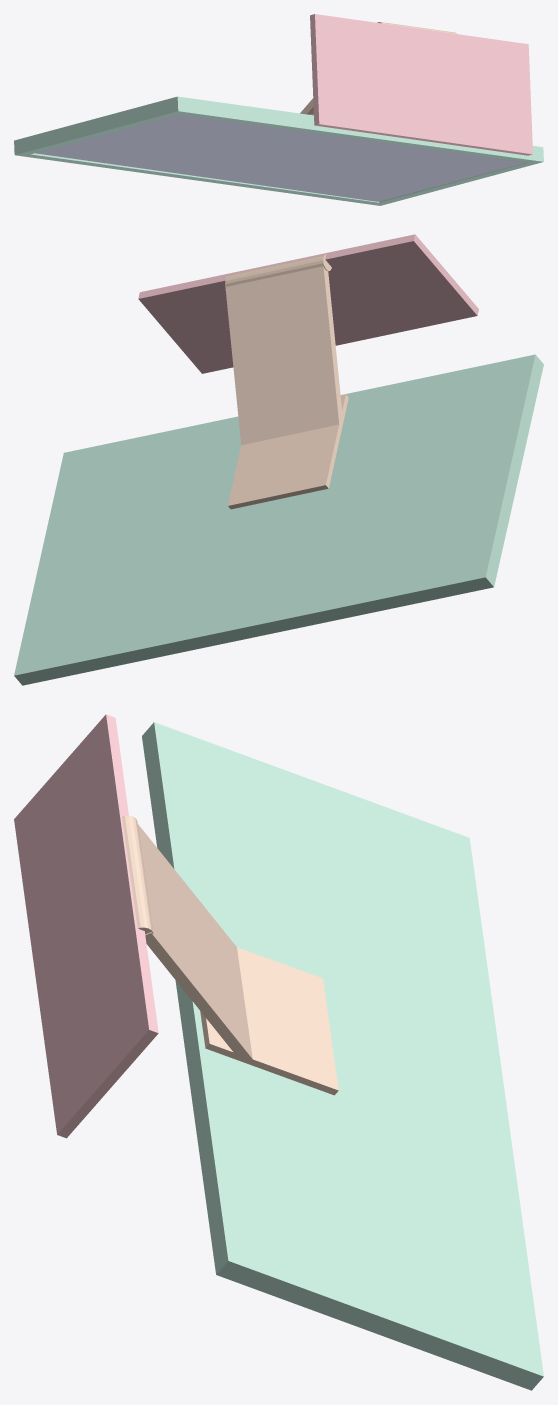
File: view_assembly_9_colored.glb
The picture shows the model from 3 angles, top to bottom: view 1: azimuth 30°, elevation 25°; view 2: azimuth 150°, elevation 25°; view 3: azimuth 270°, elevation 25°; orthographic projection. The views are drawn at different scales.
Parts seen in each view (by area): view 1: world; view 2: world; view 3: world.
Part boxes in pixels (box(x1,y1,x2,y2)): world: box(14, 14, 543, 205); world: box(14, 234, 543, 685); world: box(14, 714, 543, 1390).
Bounding box in the file's own units: 0.9186 × 0.6668 × 0.6112.
